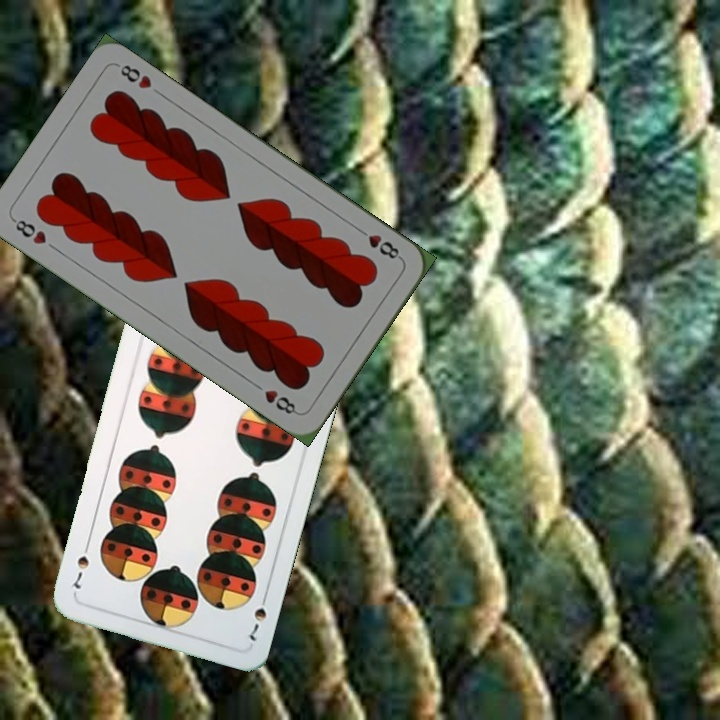H8: (352, 224, 405, 263), (8, 215, 49, 247)
S7: (245, 588, 271, 643)
